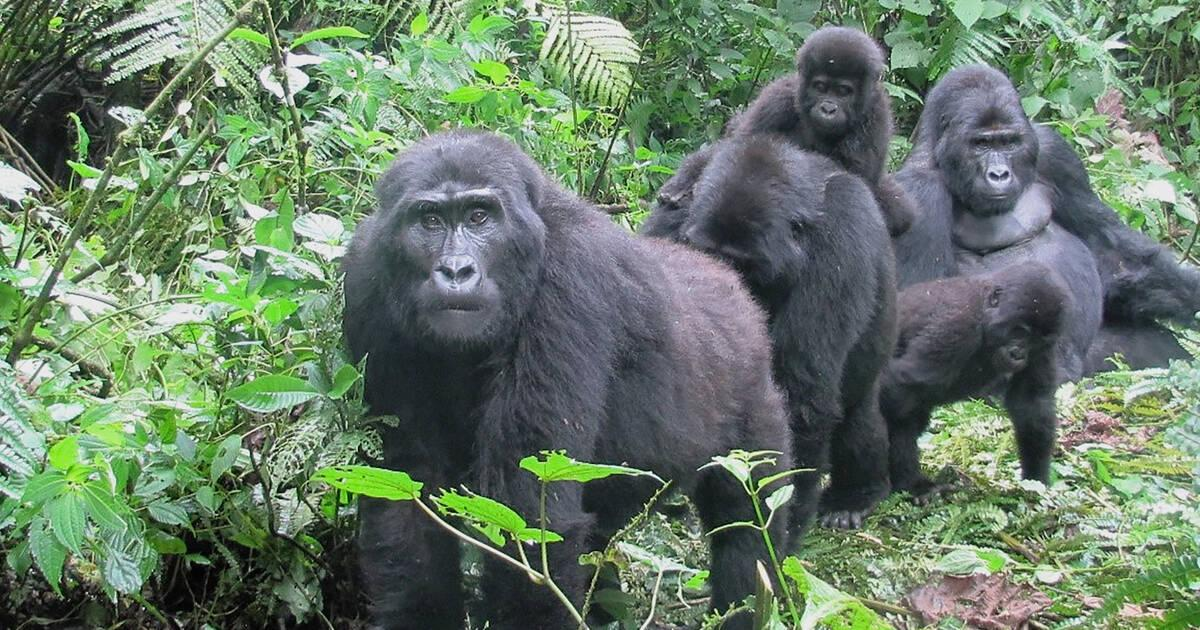goriile_montagne: (345, 134, 800, 630), (928, 45, 1166, 307), (905, 267, 1105, 478), (648, 144, 878, 307), (738, 0, 905, 170)
